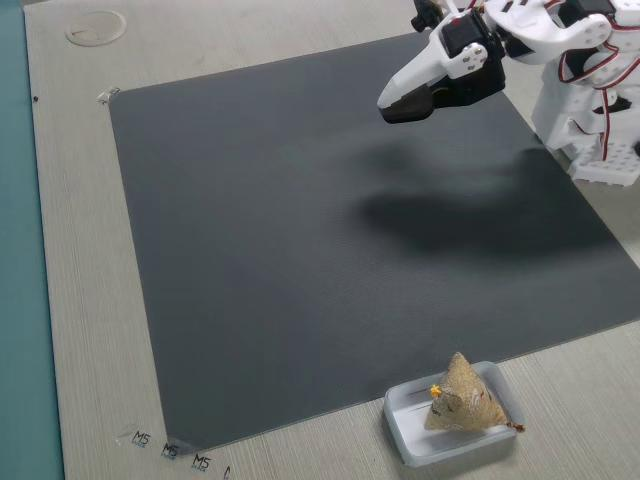gripper: (360, 0, 510, 130)
